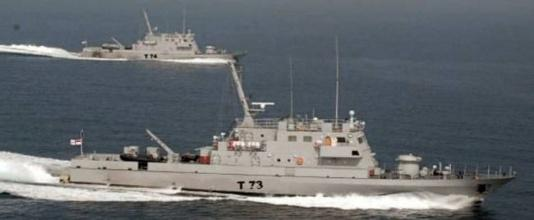warship: (55, 89, 525, 201), (71, 10, 243, 66)
